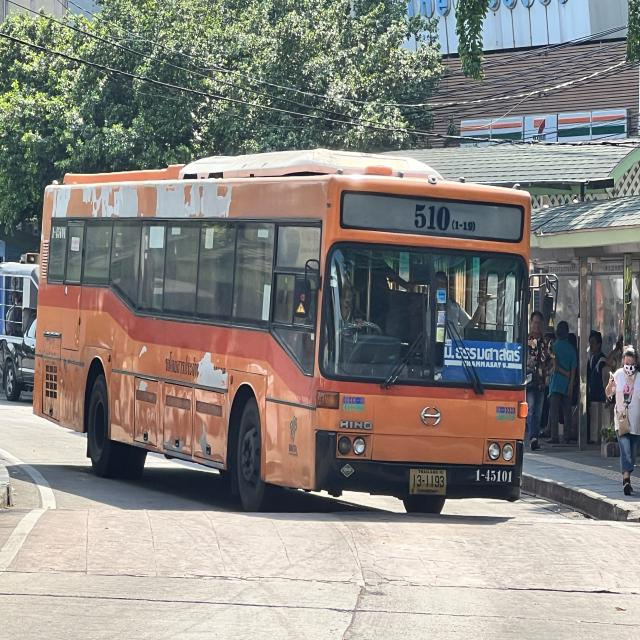BMTA-bus: (31, 151, 532, 515)
Bus-Line-Number: (412, 200, 479, 237)
Destination-Sign-Normal: (442, 338, 523, 385)
